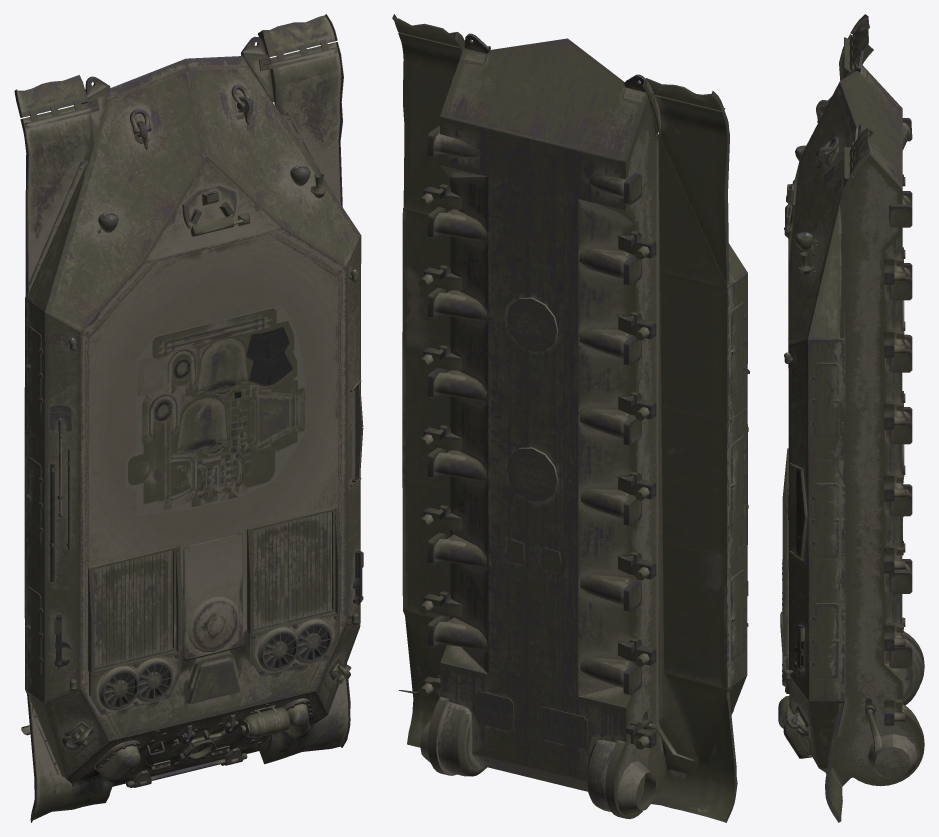
File: Hull.glb
3 renders of one model, left to right at view 1: azimuth 30°, elevation 25°; view 2: azimuth 150°, elevation 25°; view 3: azimuth 270°, elevation 25°, orthographic. The views are drawn at different scales.
Parts seen in each view (by area): view 1: set_0_group_0; view 2: set_0_group_0; view 3: set_0_group_0.
Part boxes in pixels (left/top/right/bottom): set_0_group_0: left=14, top=14, right=363, bottom=822; set_0_group_0: left=392, top=14, right=749, bottom=822; set_0_group_0: left=778, top=14, right=924, bottom=822.
Size of the model in its own units: 3.43 by 7.36 by 1.45.
Materials: 1 (1 with a texture image).
